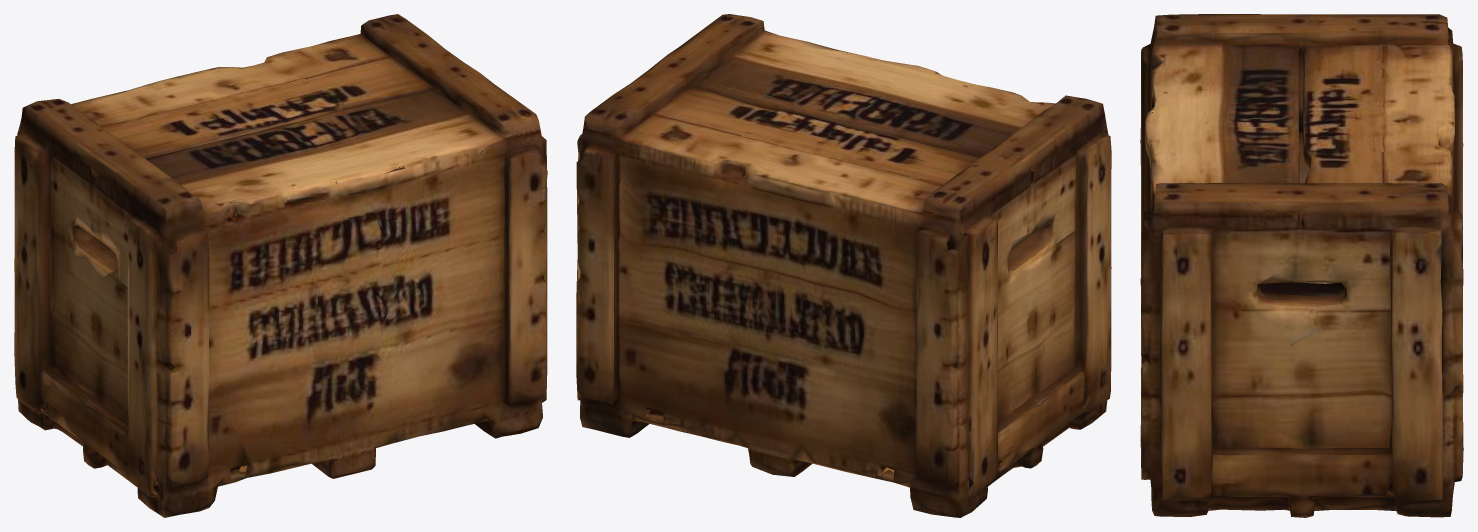
Rendered from cajon.glb.
3 views of the same model, side by side, from view 1: azimuth 30°, elevation 25°; view 2: azimuth 150°, elevation 25°; view 3: azimuth 270°, elevation 25° (orthographic). The views are drawn at different scales.
Parts seen in each view (by area): view 1: geometry_0; view 2: geometry_0; view 3: geometry_0.
Boxes of the visible parts, x1,y1,x2,y2 form: geometry_0: [14, 14, 547, 517]; geometry_0: [576, 14, 1111, 517]; geometry_0: [1140, 14, 1463, 517].
Size of the model in its own units: 0.8 by 0.6 by 0.55.
Materials: 1 (1 with a texture image).
